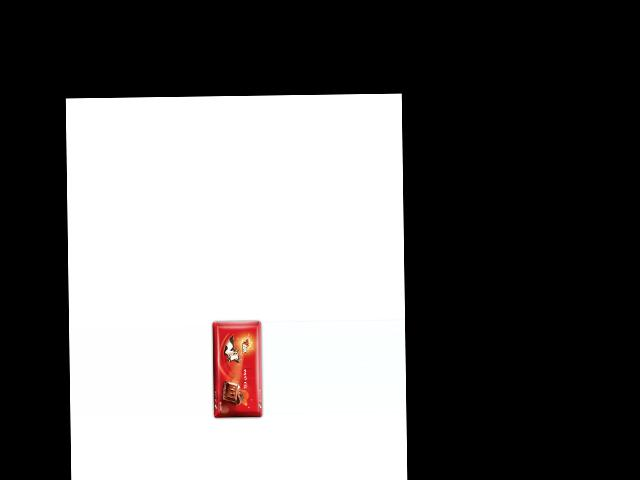chocolate: (208, 315, 262, 419)
